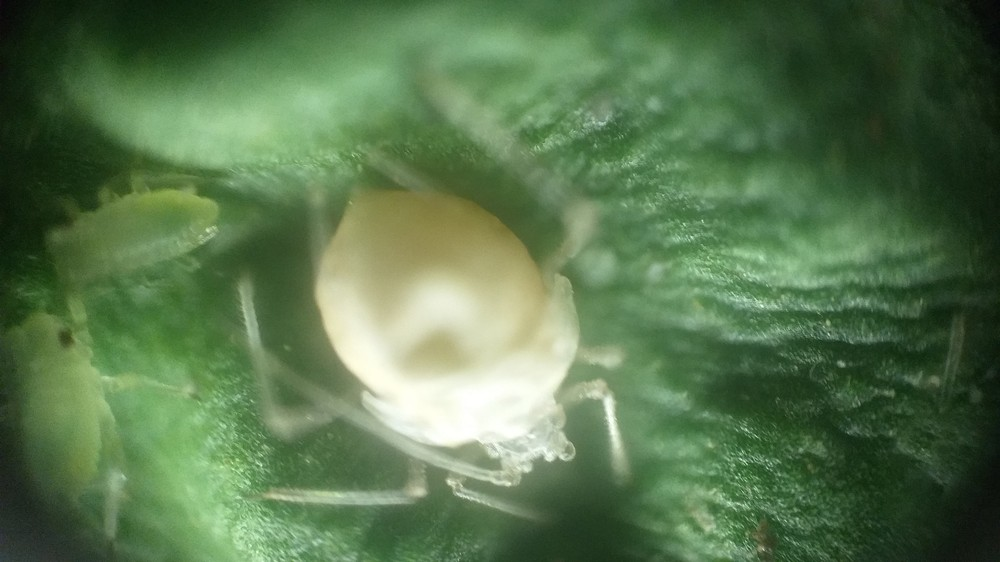Pulgon: (247, 128, 681, 537), (3, 301, 216, 552), (40, 152, 232, 287)
